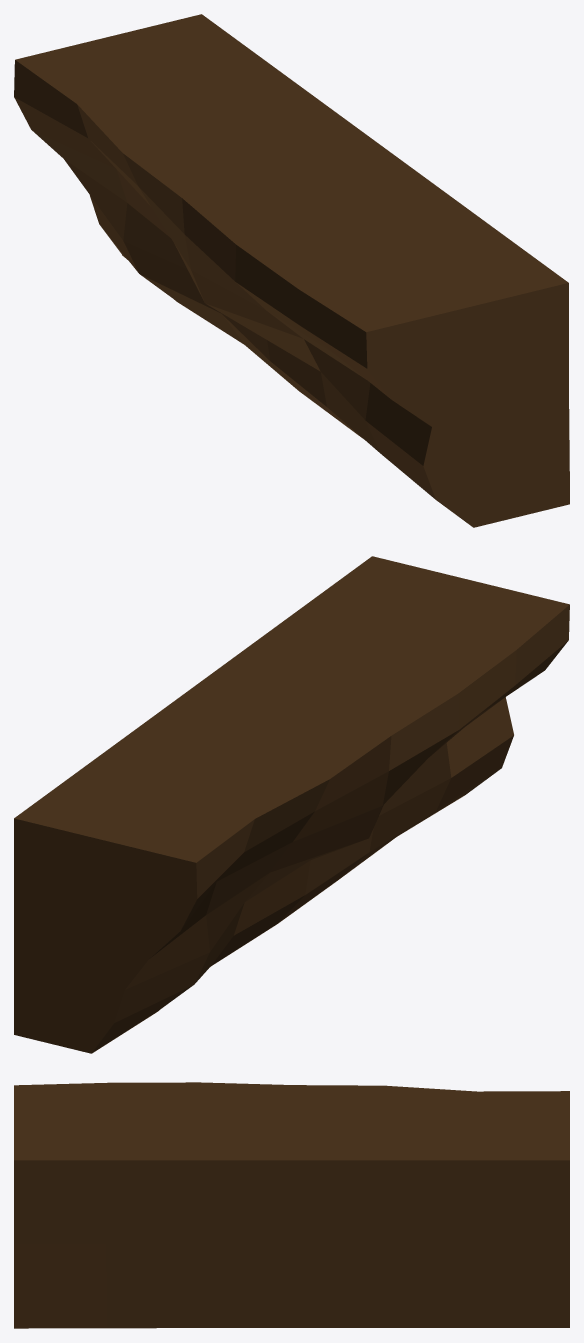
Rendered from left_gneral_block.fbx.
3 renders of one model, top to bottom at view 1: azimuth 30°, elevation 25°; view 2: azimuth 150°, elevation 25°; view 3: azimuth 270°, elevation 25°, orthographic. The views are drawn at different scales.
Visible parts, largest first — view 1: Cube.013; view 2: Cube.013; view 3: Cube.013.
Boxes of the visible parts, x1,y1,x2,y2 form: Cube.013: (14, 14, 569, 527); Cube.013: (14, 556, 569, 1053); Cube.013: (14, 1082, 569, 1328).
Size of the model in its own units: 200 by 200 by 600.
